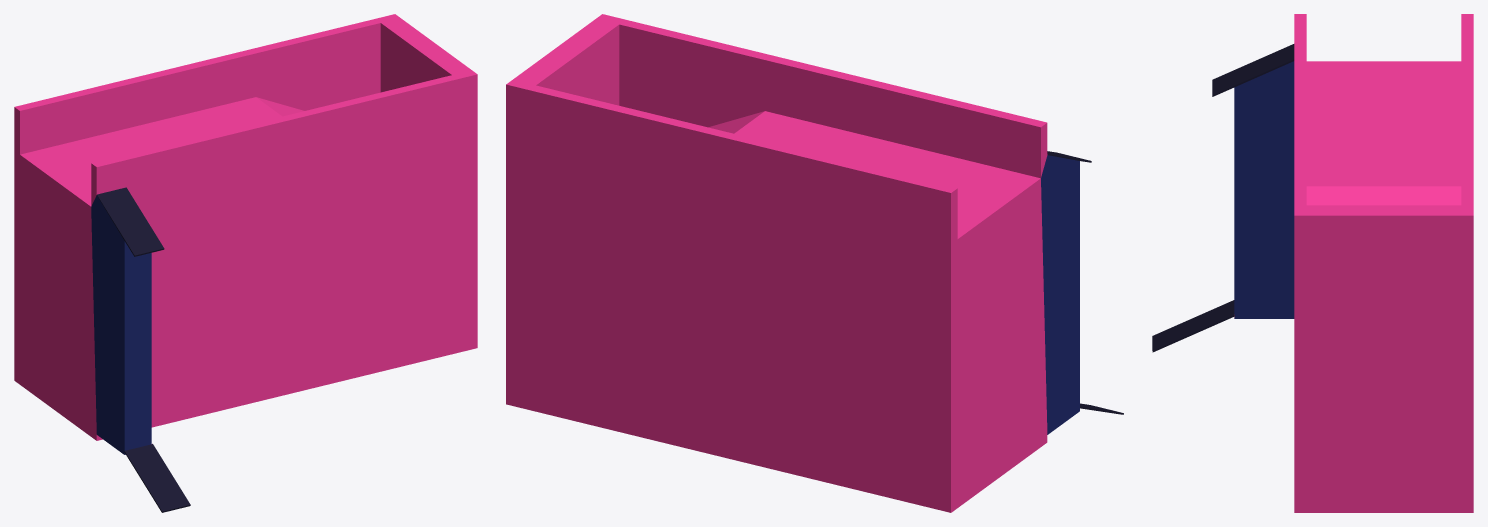
3 views of the same model, side by side, from view 1: azimuth 30°, elevation 25°; view 2: azimuth 150°, elevation 25°; view 3: azimuth 270°, elevation 25° (orthographic). The views are drawn at different scales.
Visible parts, largest first — view 1: Mesh_0.020; view 2: Mesh_0.020; view 3: Mesh_0.020.
Part boxes in pixels (x1,y1,x2,y2): Mesh_0.020: [14, 14, 477, 512]; Mesh_0.020: [506, 14, 1123, 512]; Mesh_0.020: [1152, 14, 1473, 512].
Bounding box in the file's own units: 4 × 2.99 × 2.69.
